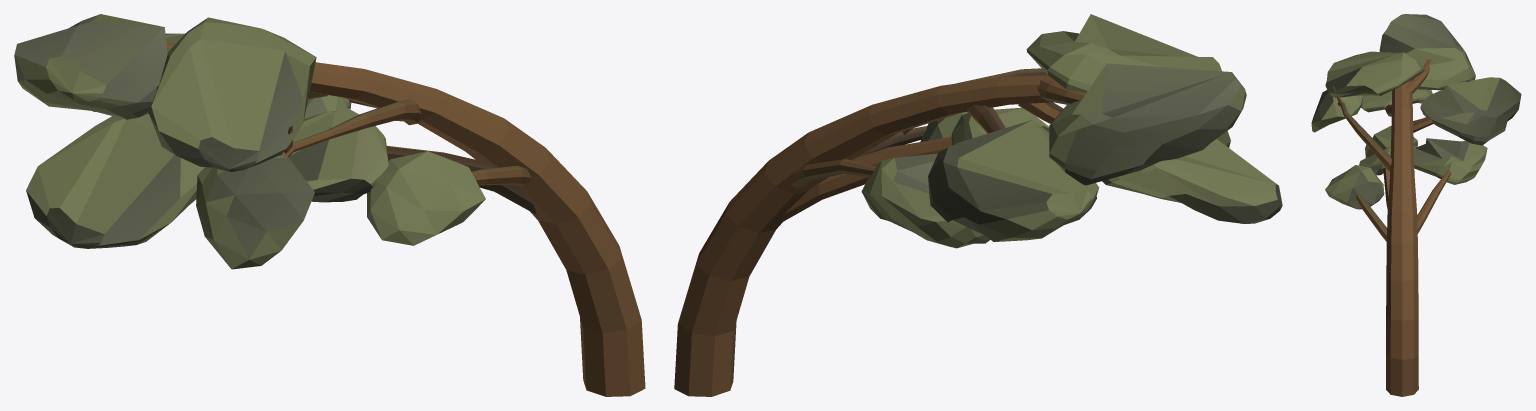
File: Tree80Bend_Summer.fbx
The picture shows the model from 3 angles, left to right: view 1: azimuth 30°, elevation 25°; view 2: azimuth 150°, elevation 25°; view 3: azimuth 270°, elevation 25°; orthographic projection. The views are drawn at different scales.
Visible parts, largest first — view 1: TreeBend80.004; view 2: TreeBend80.004; view 3: TreeBend80.004.
Part boxes in pixels (x1=…): TreeBend80.004: x1=14, y1=14, x2=645, y2=396; TreeBend80.004: x1=674, y1=14, x2=1282, y2=396; TreeBend80.004: x1=1311, y1=14, x2=1521, y2=396.
Size of the model in its own units: 741 by 536 by 430.
